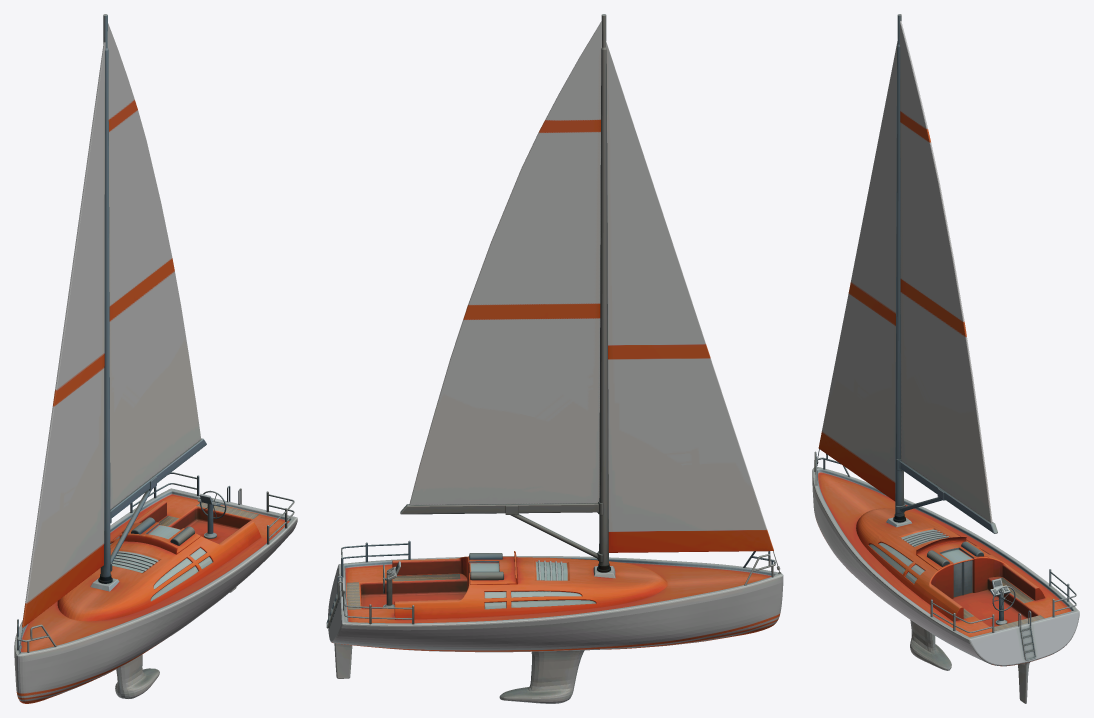
Rendered from Yacht.fbx.
The picture shows the model from 3 angles, left to right: view 1: azimuth 30°, elevation 25°; view 2: azimuth 150°, elevation 25°; view 3: azimuth 270°, elevation 25°; orthographic projection. The views are drawn at different scales.
Visible parts, largest first — view 1: node_id176; view 2: node_id176; view 3: node_id176.
Part boxes in pixels (left/top/right/bottom): node_id176: left=14, top=14, right=297, bottom=703; node_id176: left=326, top=14, right=783, bottom=703; node_id176: left=812, top=14, right=1079, bottom=703.
Size of the model in its own units: 0.2816 by 0.512 by 0.1989.
Materials: 1 (1 with a texture image).
